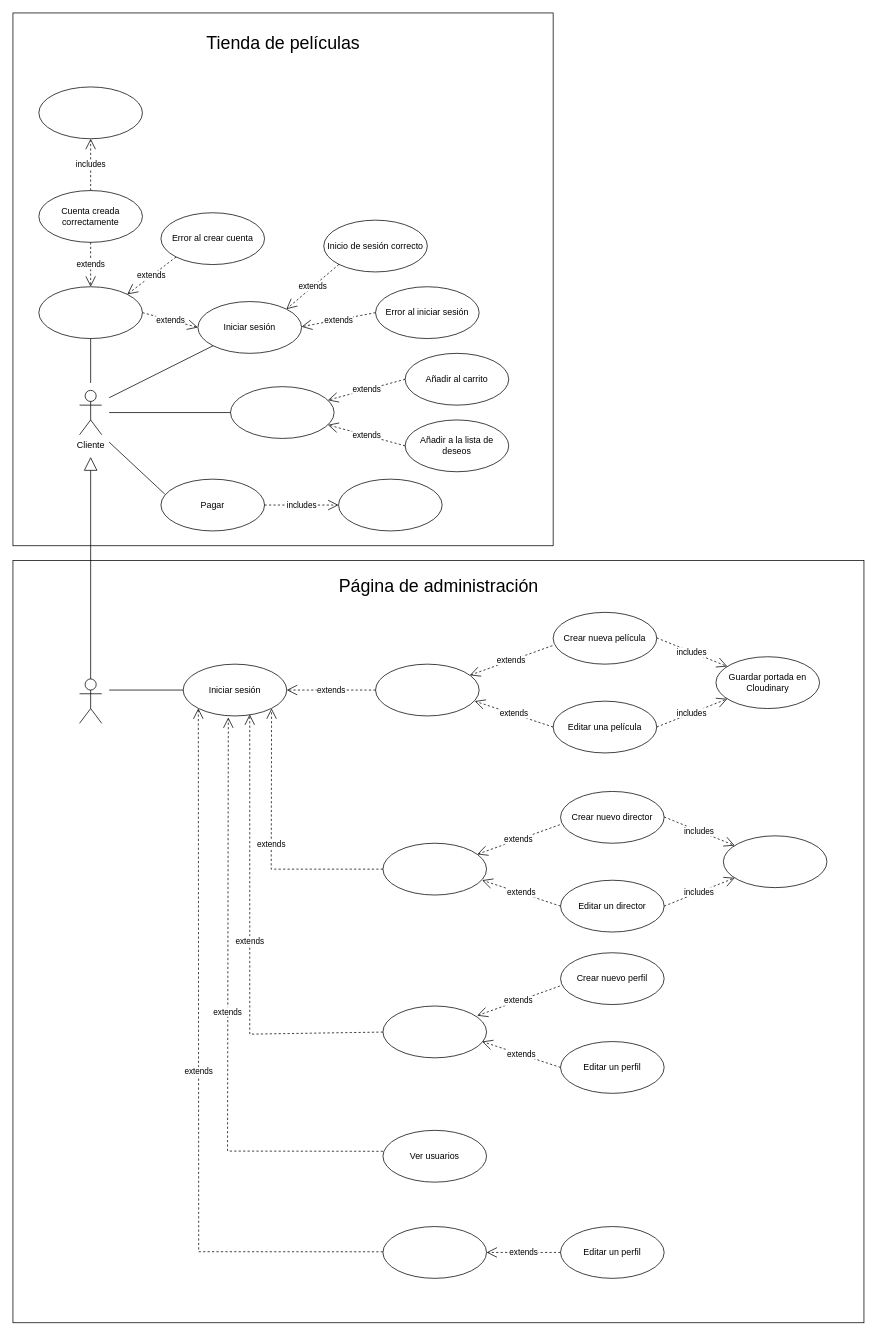
Image size: 877x1336. Some labels were removed from this diagram. The shapes that lost their labels are listed below. From the top down, each one's centre as x and y in pixels, then its label:
the point at 90,112: Mandar mail de confirmación
the point at 90,312: Crear cuenta
the point at 282,412: Ver detalle película
the point at 390,504: Comprobar datos de pago
the point at 90,700: Administrador
the point at 427,689: Ver películas
the point at 434,868: Ver directores
the point at 775,861: Guardar foto en Cloudinary
the point at 434,1031: Ver perfiles
the point at 434,1252: Ver pedidos
